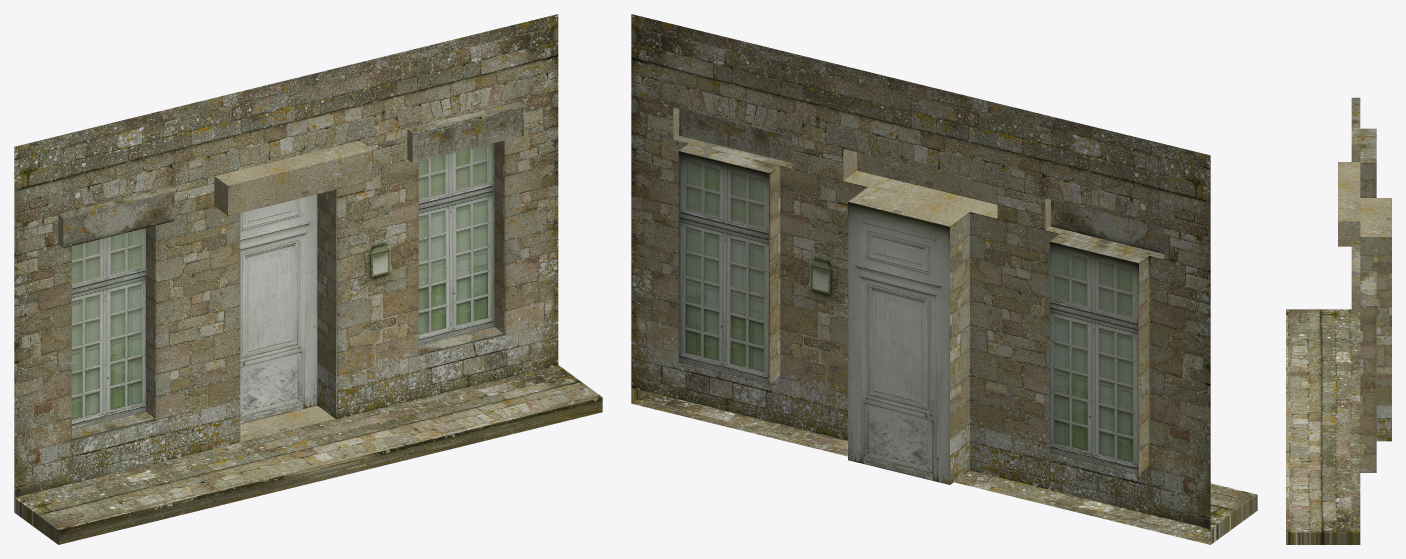
Rendered from modeladoFachada2.fbx.
The picture shows the model from 3 angles, left to right: view 1: azimuth 30°, elevation 25°; view 2: azimuth 150°, elevation 25°; view 3: azimuth 270°, elevation 25°; orthographic projection. The views are drawn at different scales.
Parts seen in each view (by area): view 1: Fachada; view 2: Fachada; view 3: Fachada.
Boxes of the visible parts, x1,y1,x2,y2 form: Fachada: (14, 14, 602, 544); Fachada: (631, 14, 1257, 544); Fachada: (1286, 97, 1391, 544).
Bounding box in the file's own units: 156 × 100 × 31.2.
1 material, 1 textured.
